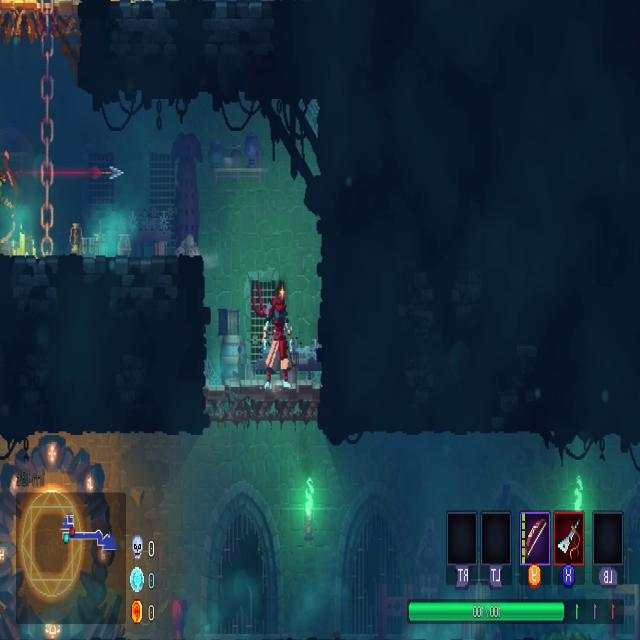agents: (261, 287, 295, 389)
enemy_archer: (0, 145, 14, 249)
wood_floor: (205, 380, 323, 425), (0, 0, 80, 43)
